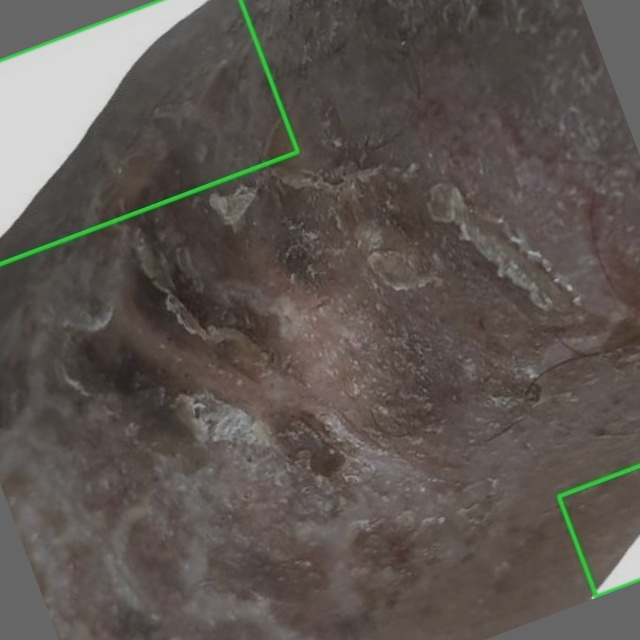Eczema: (0, 0, 297, 264)
